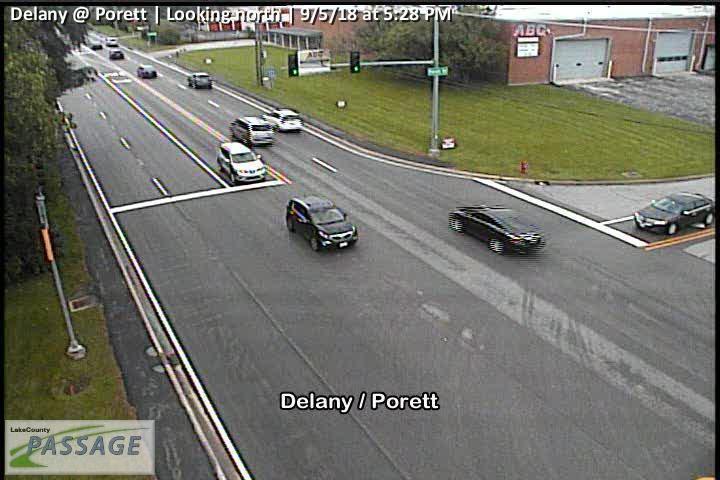SUV: (287, 194, 359, 251), (217, 142, 267, 184), (230, 116, 274, 149), (263, 108, 303, 133), (187, 72, 211, 90), (110, 48, 124, 59), (106, 35, 118, 47)
Sedan: (449, 203, 545, 255), (635, 191, 717, 236), (137, 65, 157, 79), (89, 42, 103, 50)
